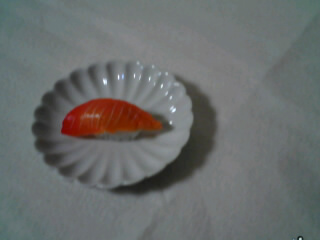002_classes: (57, 95, 172, 136)
